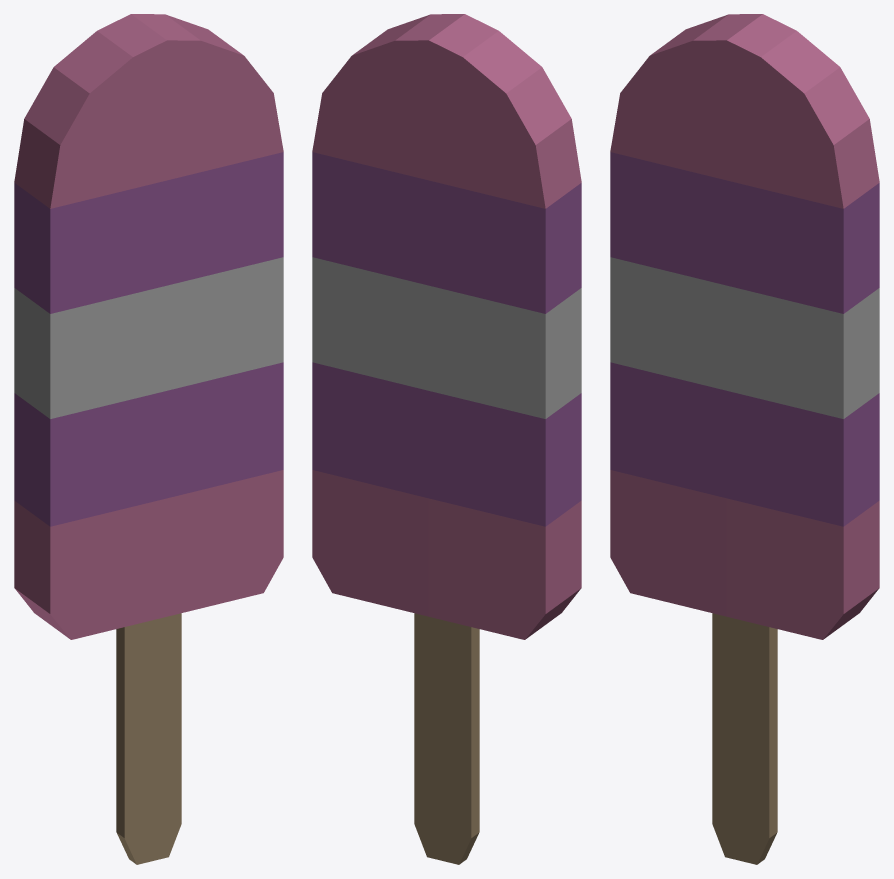
File: quaternius-ultimate-food-popsicle-multiple.glb
3 views of the same model, side by side, from view 1: azimuth 30°, elevation 25°; view 2: azimuth 150°, elevation 25°; view 3: azimuth 330°, elevation 25° (orthographic).
Visible parts, largest first — view 1: Popsicle_Multiple; view 2: Popsicle_Multiple; view 3: Popsicle_Multiple.
Part boxes in pixels (x1,y1,x2,y2): Popsicle_Multiple: (14, 14, 283, 864); Popsicle_Multiple: (312, 14, 581, 864); Popsicle_Multiple: (610, 14, 879, 864).
Bounding box in the file's own units: 0.291 × 0.99 × 0.0799.
